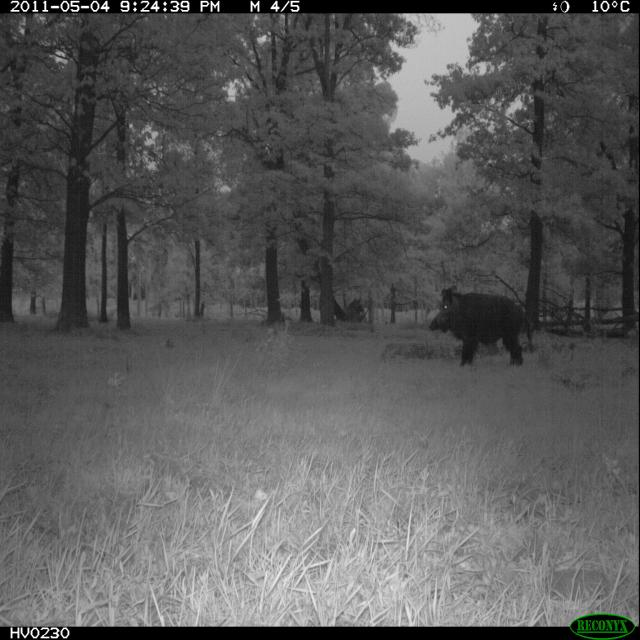boar: (412, 258, 549, 402)
